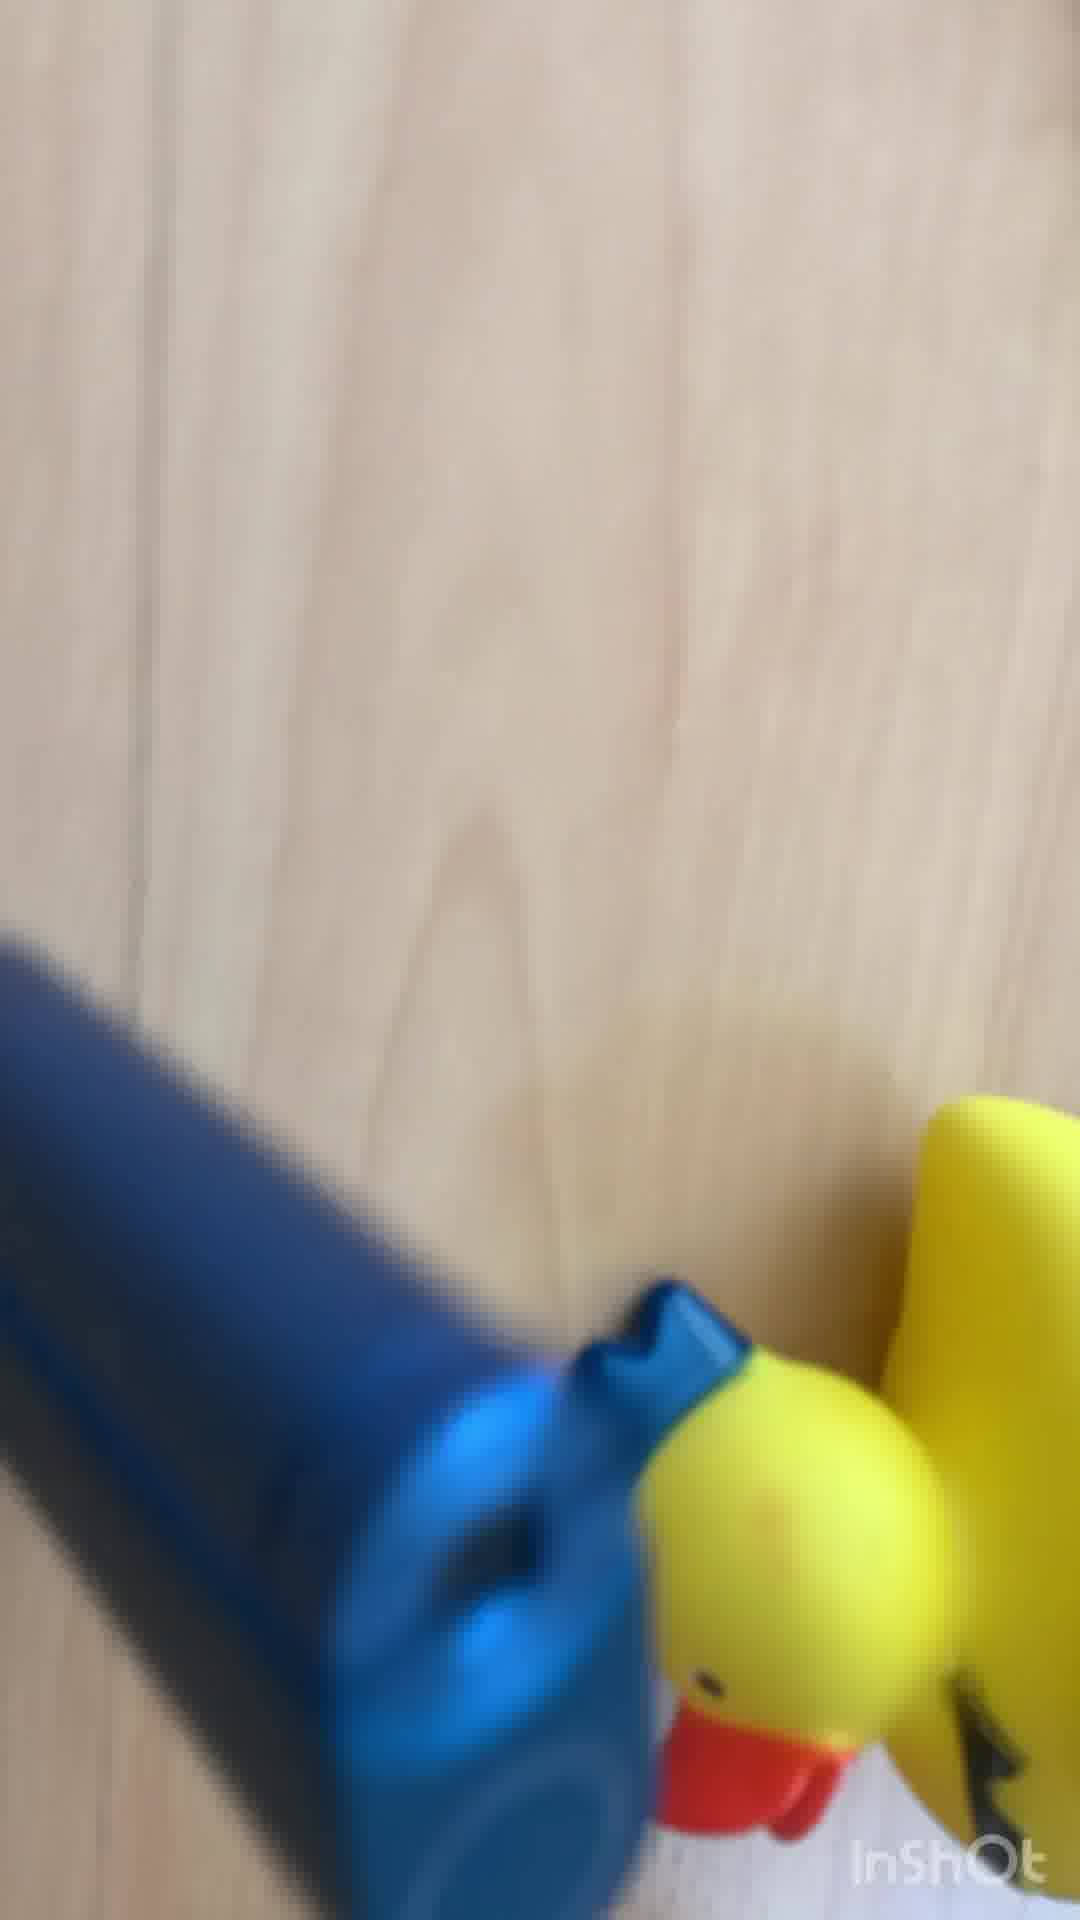duck: (541, 1046, 1080, 1920)
glo: (1, 852, 649, 1920)
